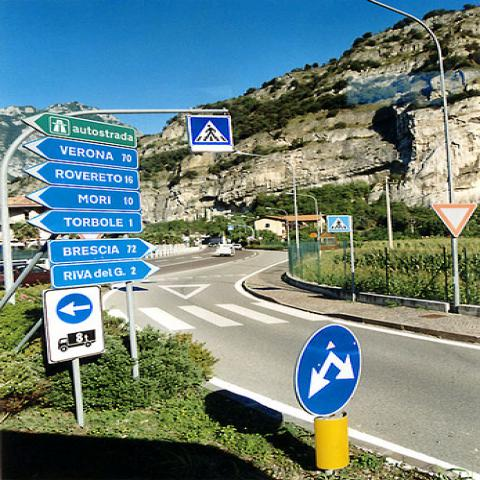car: (214, 246, 236, 257), (232, 243, 243, 250), (208, 242, 216, 247)
